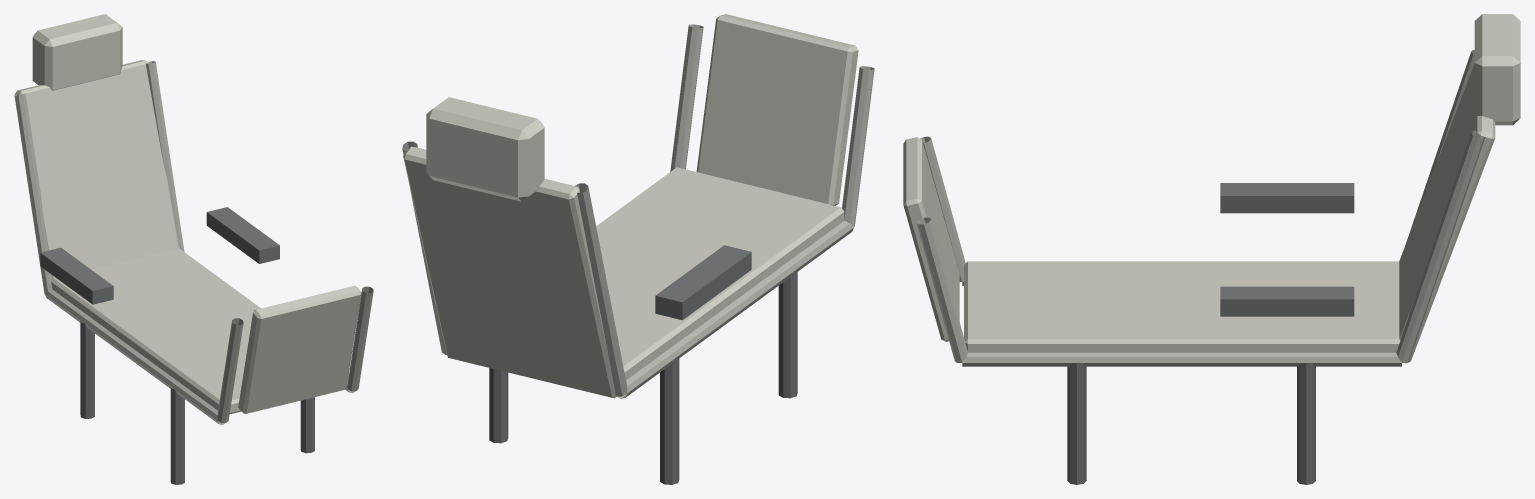
The model's file is apollo_couch.glb.
3 renders of one model, left to right at view 1: azimuth 30°, elevation 25°; view 2: azimuth 150°, elevation 25°; view 3: azimuth 270°, elevation 25°, orthographic. The views are drawn at different scales.
Visible parts, largest first — view 1: model; view 2: model; view 3: model.
Boxes of the visible parts, x1,y1,x2,y2 form: model: (14, 14, 373, 484); model: (402, 14, 874, 484); model: (903, 14, 1520, 484).
Bounding box in the file's own units: 0.72 × 1.17 × 1.61.
Materials: 1 (1 with a texture image).
